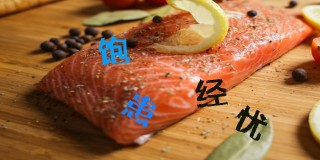忧: (235, 103, 269, 141)
患: (123, 93, 157, 127)
经: (195, 76, 230, 108)
饱: (96, 34, 133, 65)
